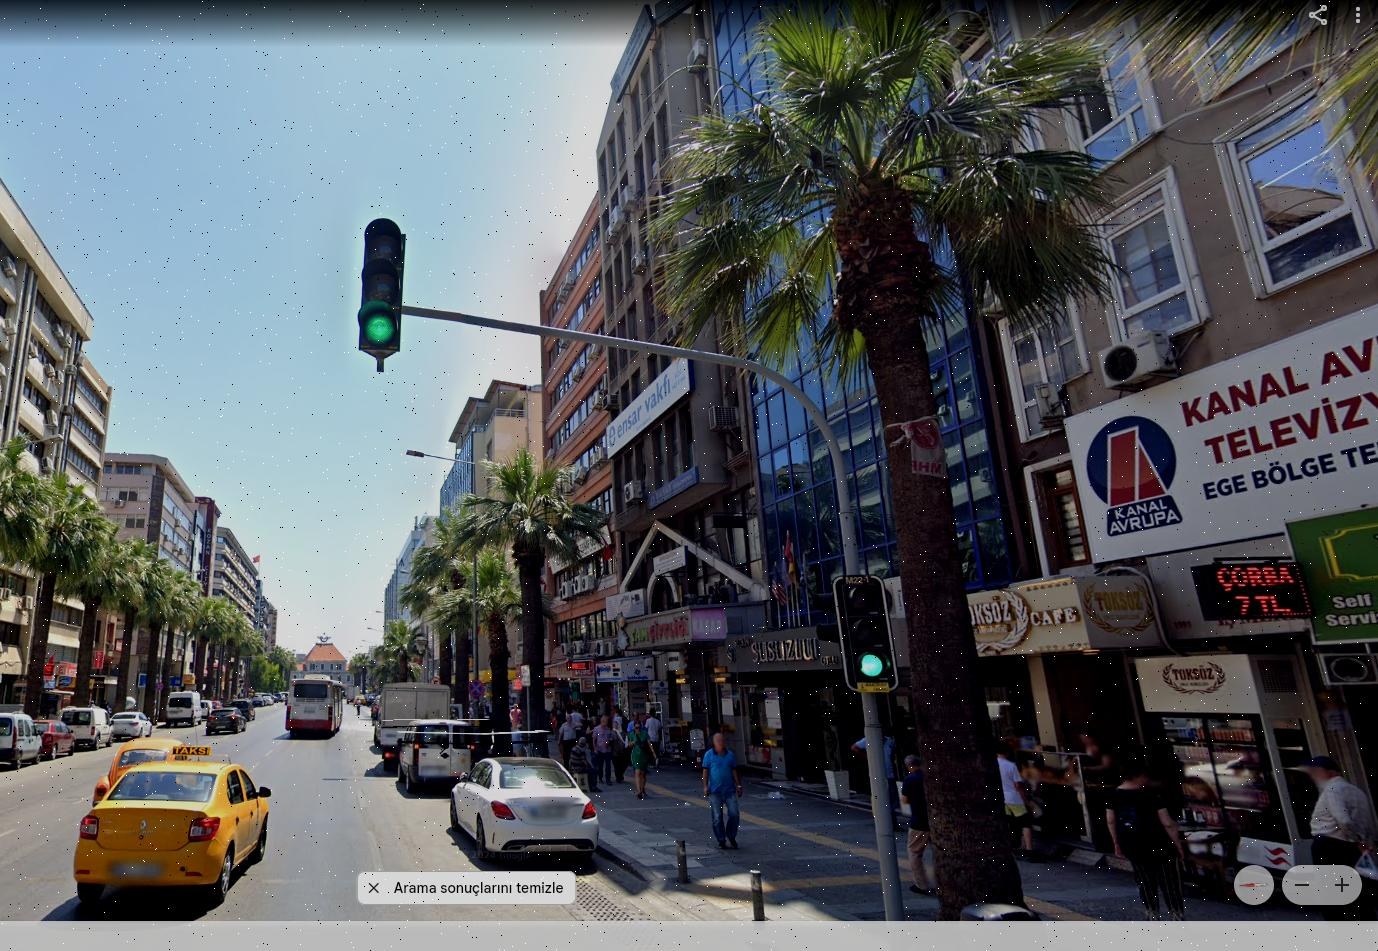greenlight: (839, 574, 891, 691), (363, 220, 404, 353)
